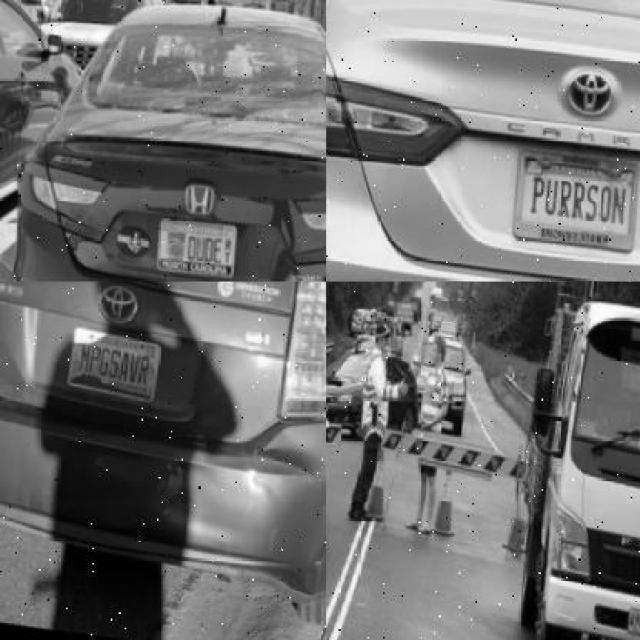LicensePlate: (507, 146, 638, 250), (62, 323, 157, 401), (151, 214, 235, 275), (626, 607, 639, 633)
